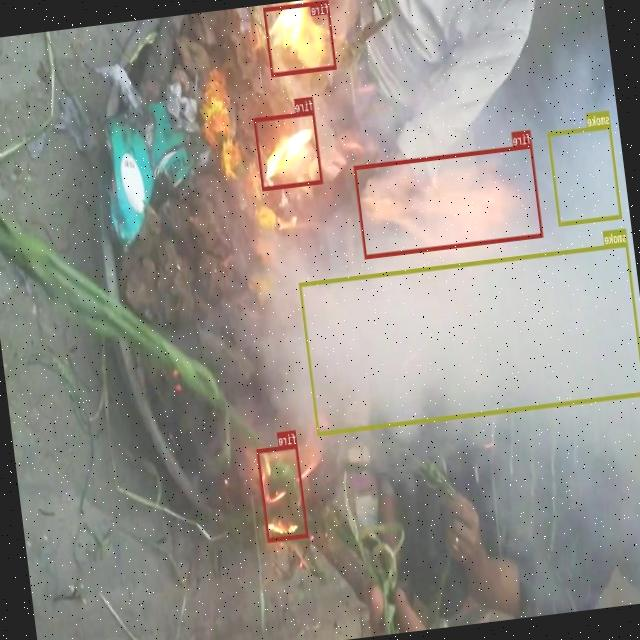fire: (354, 143, 544, 258), (254, 109, 324, 190), (263, 0, 337, 76), (256, 444, 308, 540)
smoke: (299, 241, 640, 434), (547, 123, 622, 224)
